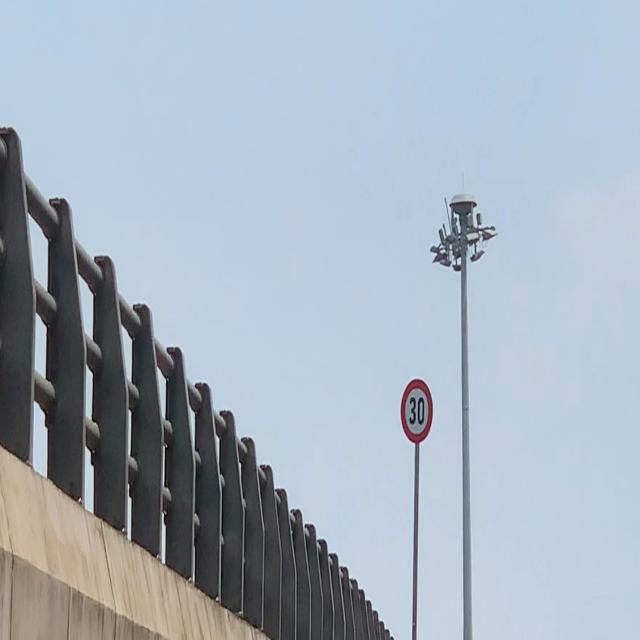Toc do toi da: (400, 378, 434, 444)
